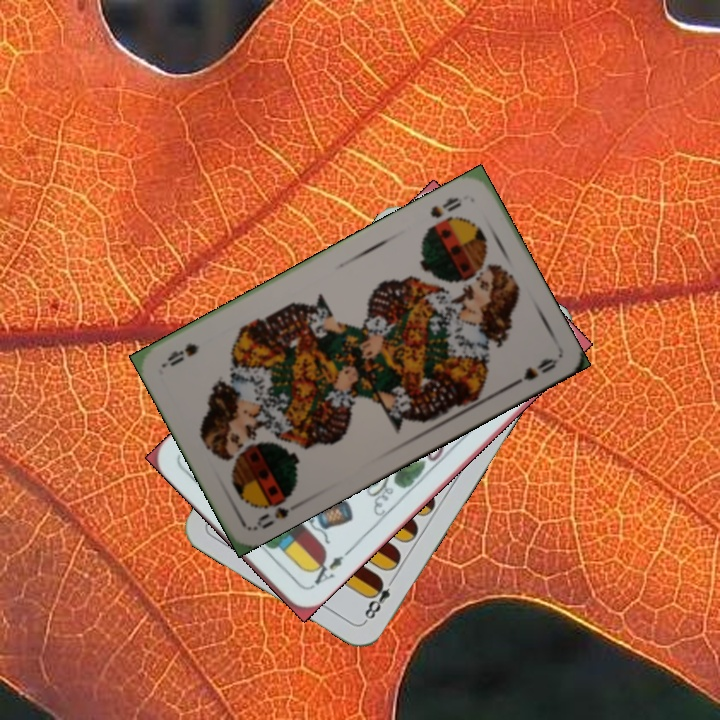E8: (360, 572, 399, 624)
EA: (306, 546, 353, 592)
SO: (251, 486, 306, 532), (426, 193, 465, 221)
